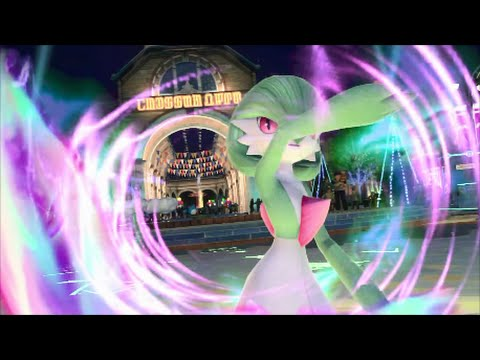gardevoir: (227, 66, 423, 314)
